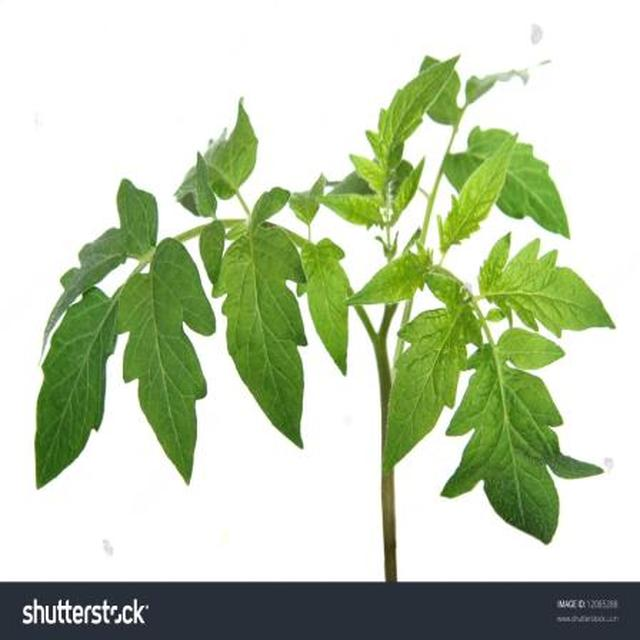Healthy Leaf: (77, 100, 640, 621)
